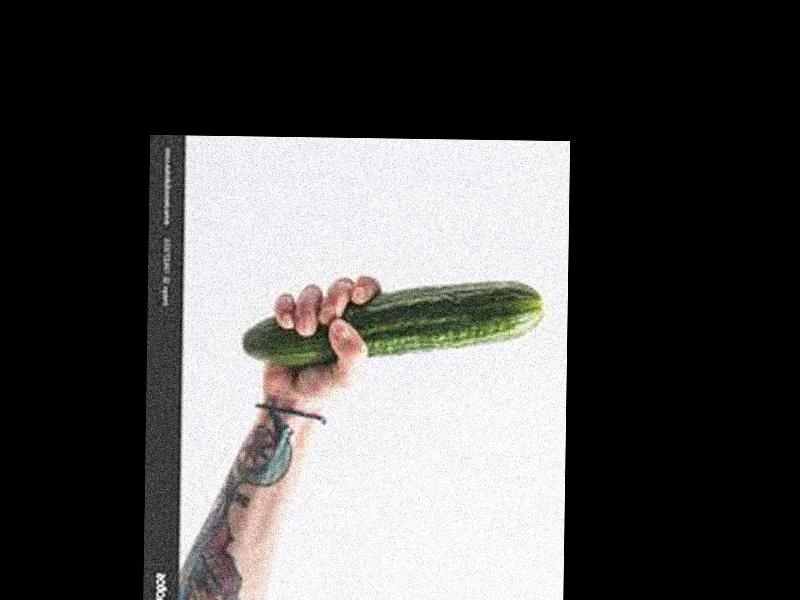Cucumber: (244, 276, 548, 368)
